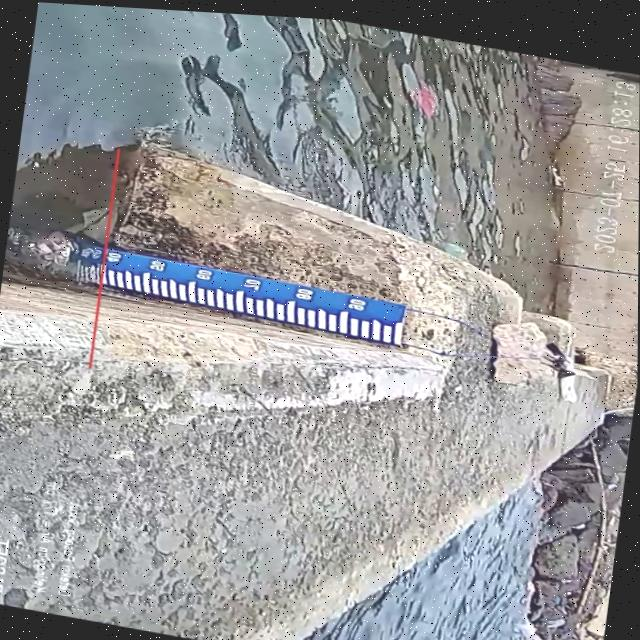water-meter: (47, 232, 419, 356)
